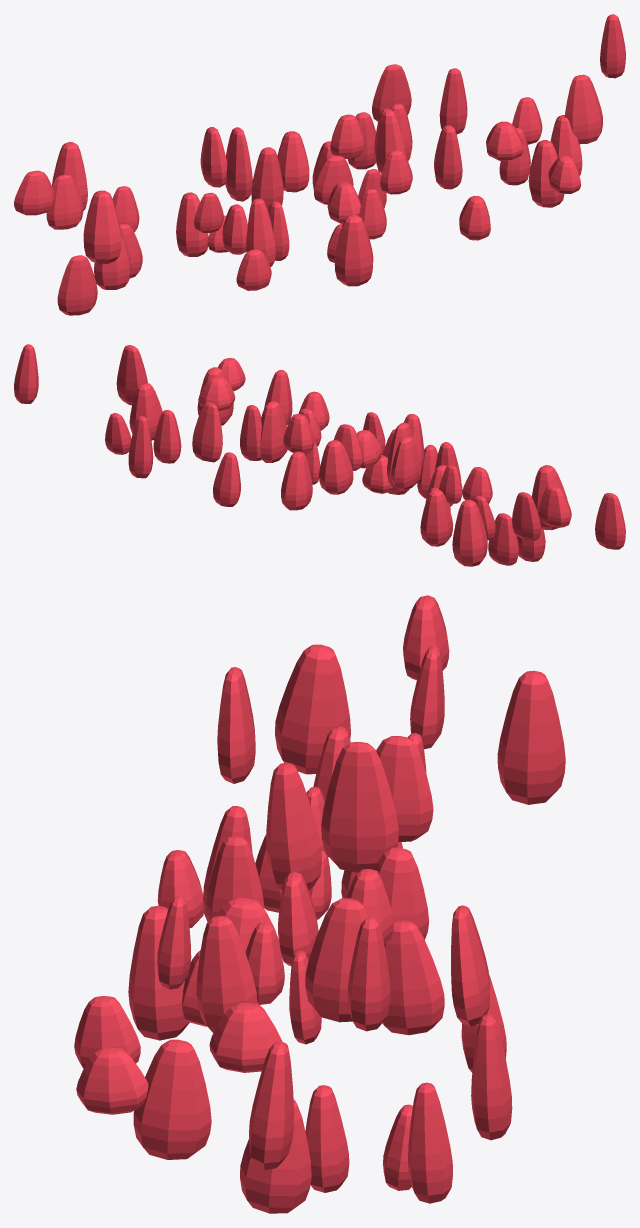
The model's file is pinkcoral1.glb.
3 renders of one model, top to bottom at view 1: azimuth 30°, elevation 25°; view 2: azimuth 150°, elevation 25°; view 3: azimuth 270°, elevation 25°, orthographic. The views are drawn at different scales.
Parts seen in each view (by area): view 1: coral 2.002; view 2: coral 2.002; view 3: coral 2.002.
Part boxes in pixels (x1,y1,x2,y2): coral 2.002: (14, 14, 625, 315); coral 2.002: (14, 344, 625, 566); coral 2.002: (74, 595, 565, 1213).
Bounding box in the file's own units: 27.24 × 5.68 × 10.3.
1 material, 1 textured.
